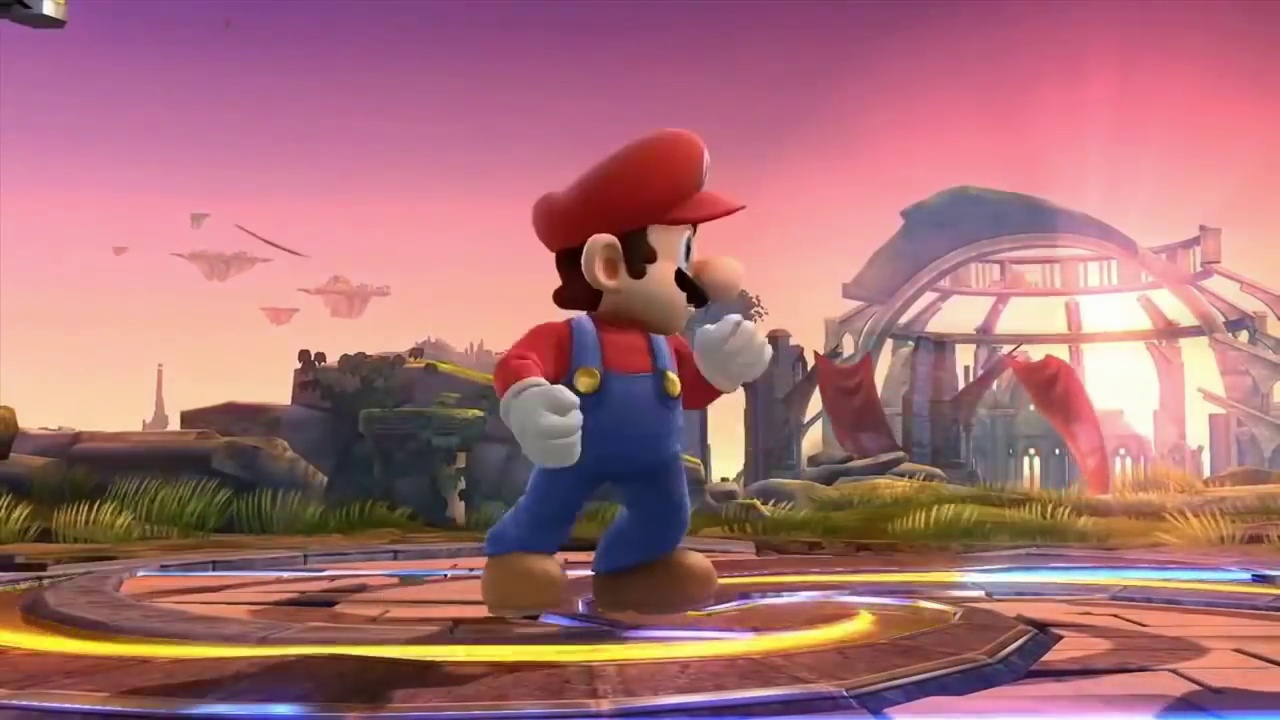Mario: (477, 130, 768, 611)
